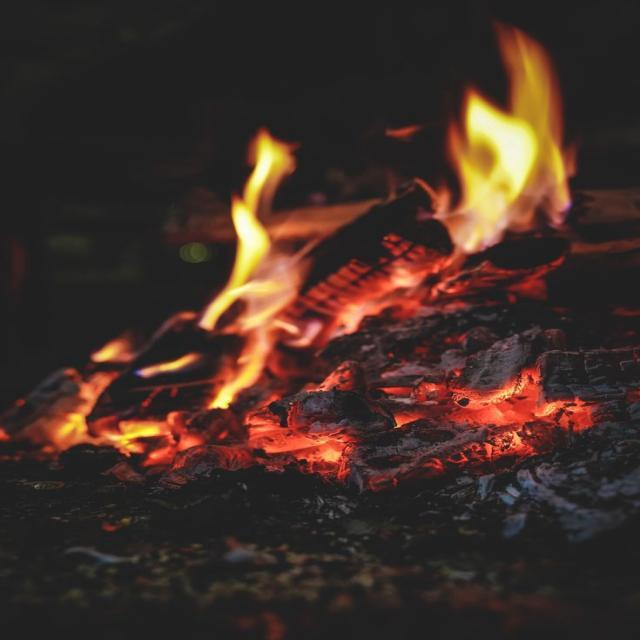Fire: (71, 21, 585, 482)
